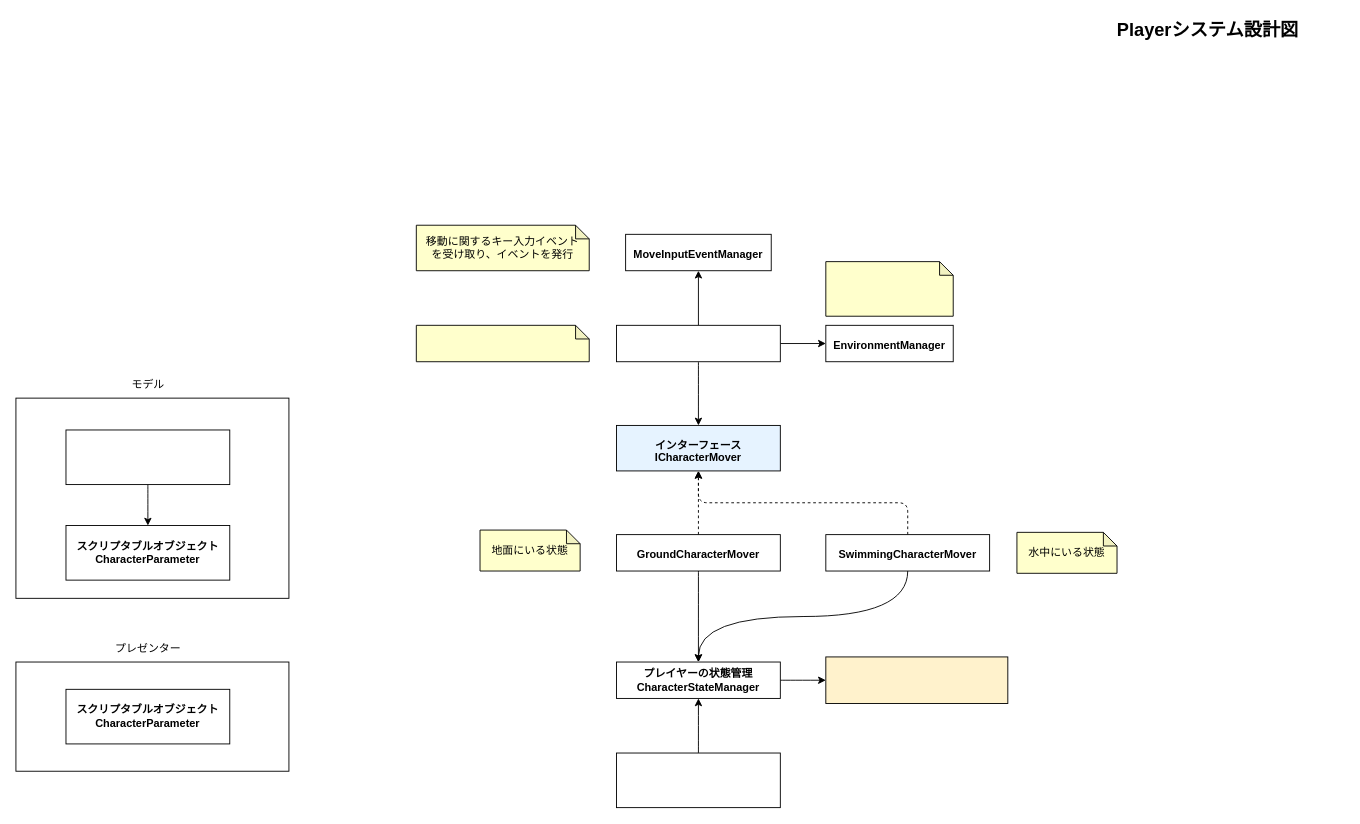
Some shapes in this 1360 by 824 pixel diagram are drawn without their labels. The centre of each missing label's shape, as x and y in pixels:
"CharacterMoveInputHandler" belongs at point (698, 343).
"enumでステータスの宣言 CharacterState" belongs at point (916, 680).
"イベントを購読して、 Move処理を呼び出す" belongs at point (502, 343).
"プレイヤーのパラメーター管理 CharacterParameterManager" belongs at point (147, 457).
"地上か水中なのか 判定をする" belongs at point (889, 288).
"状態を購読してアニメーションを切り替える処理 AnimationController" belongs at point (698, 780).
